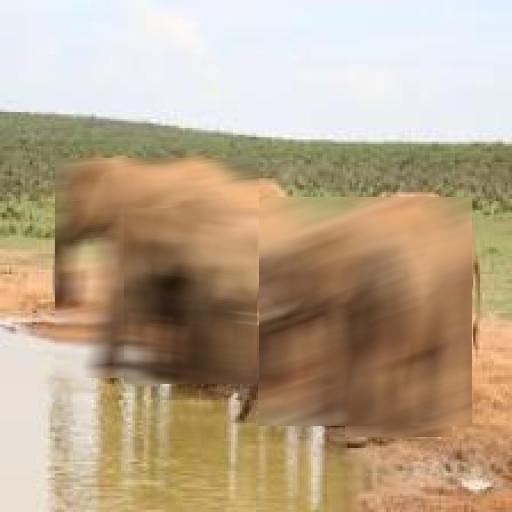Elephant: (258, 197, 472, 426), (55, 158, 259, 378), (124, 208, 257, 384), (345, 224, 452, 437)
